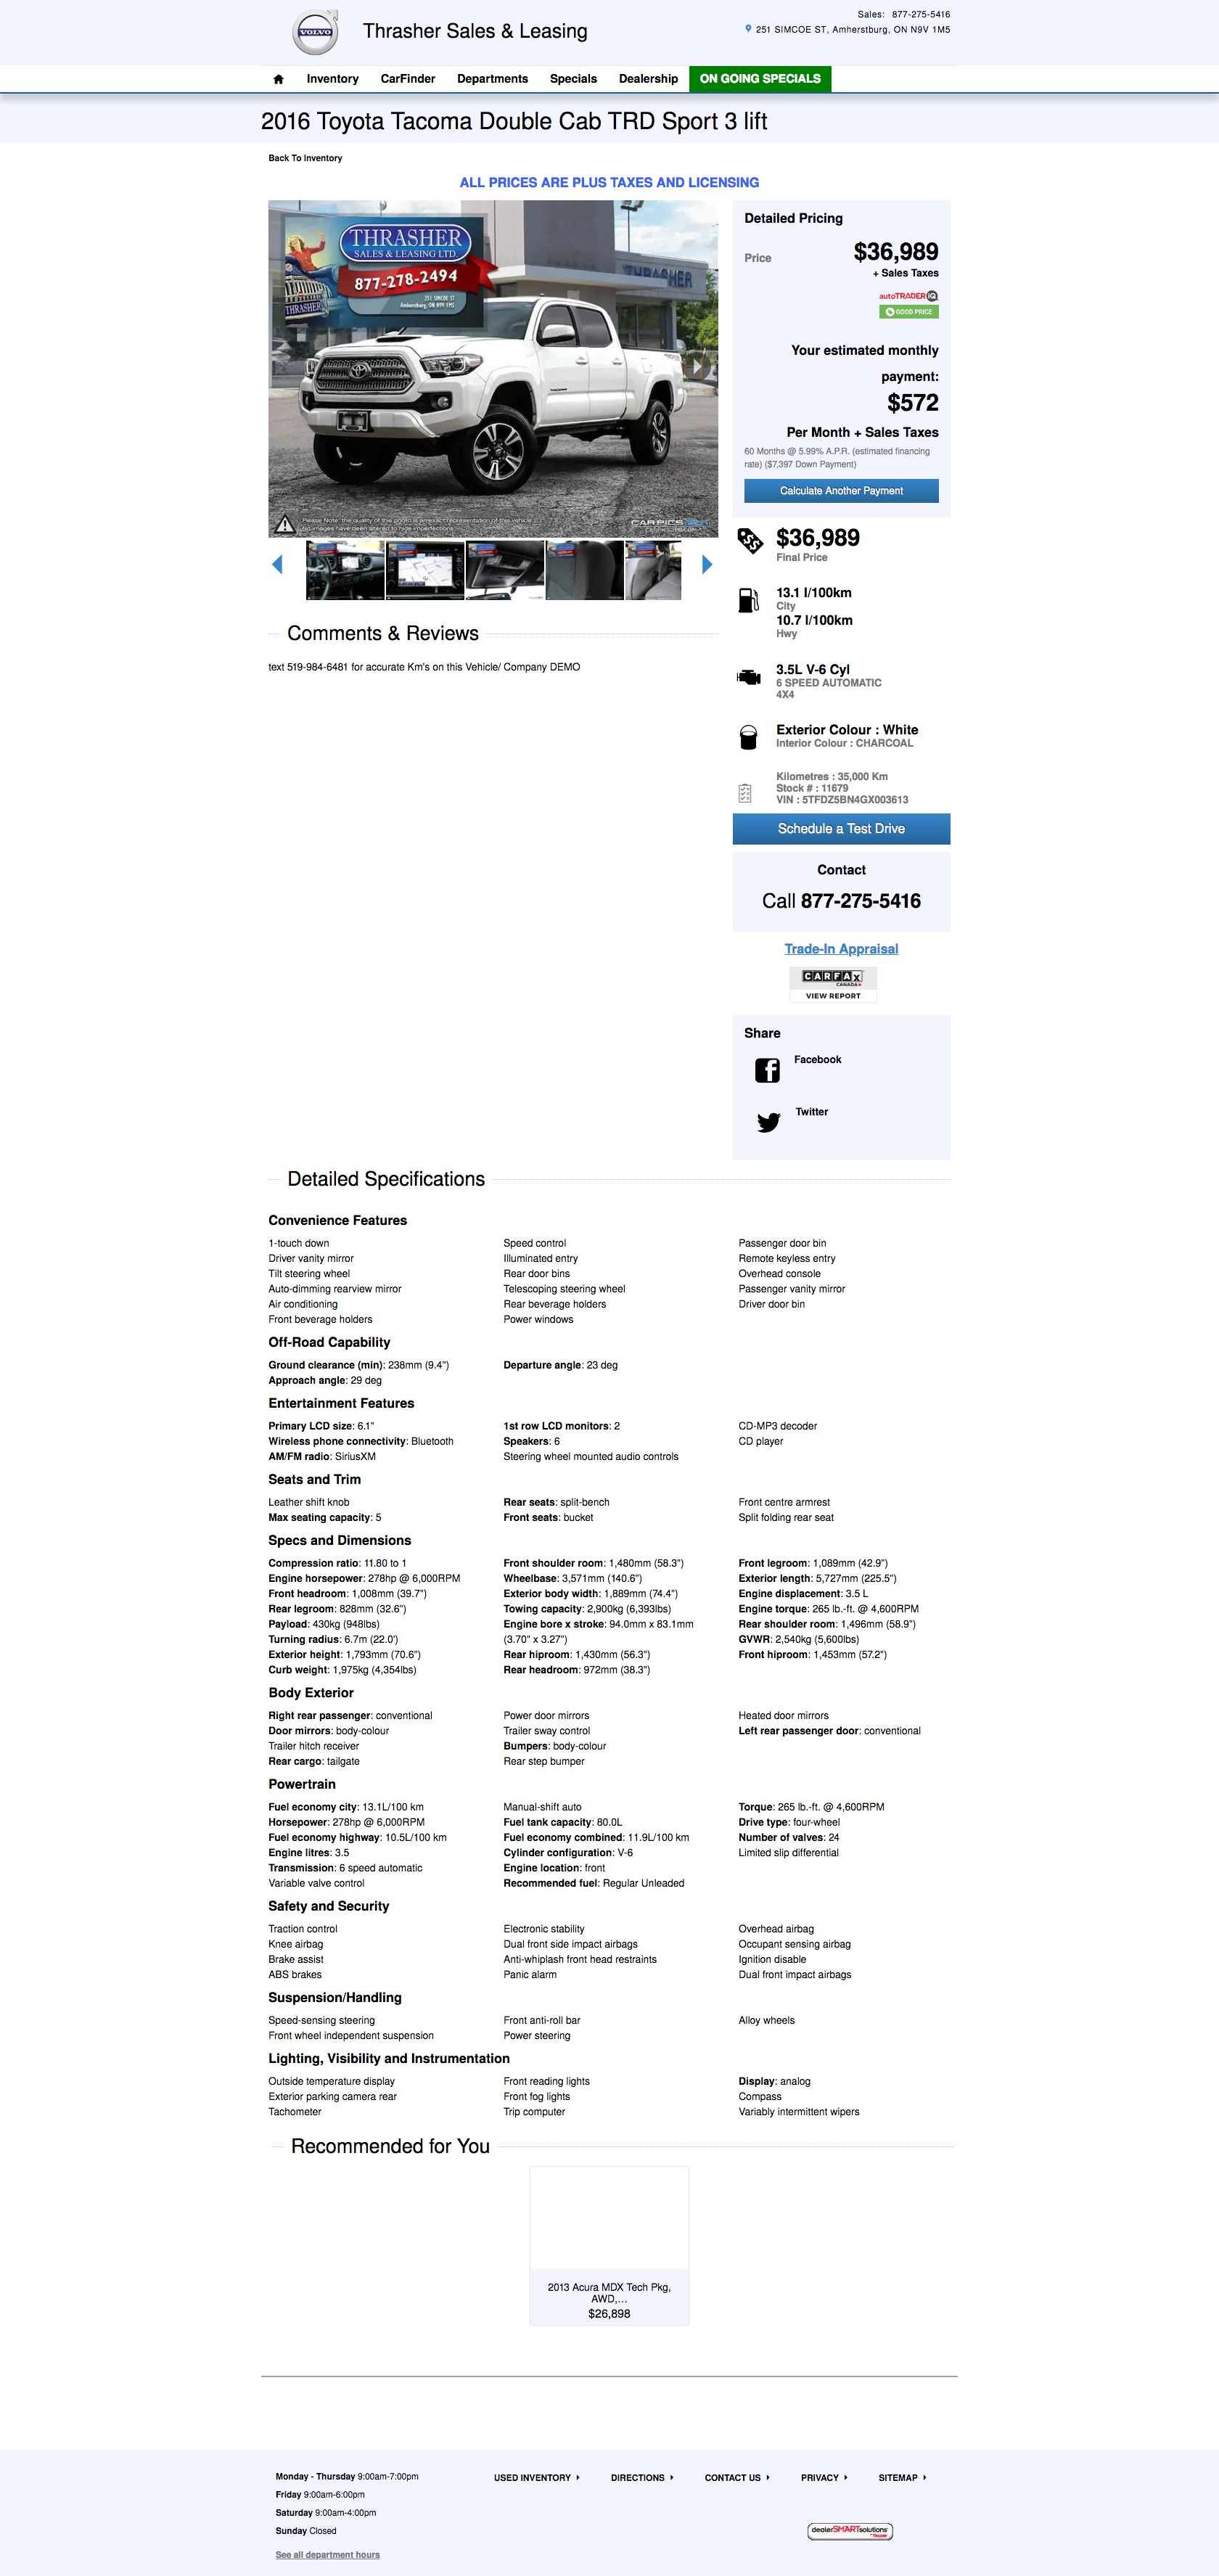car: (703, 554, 713, 575)
